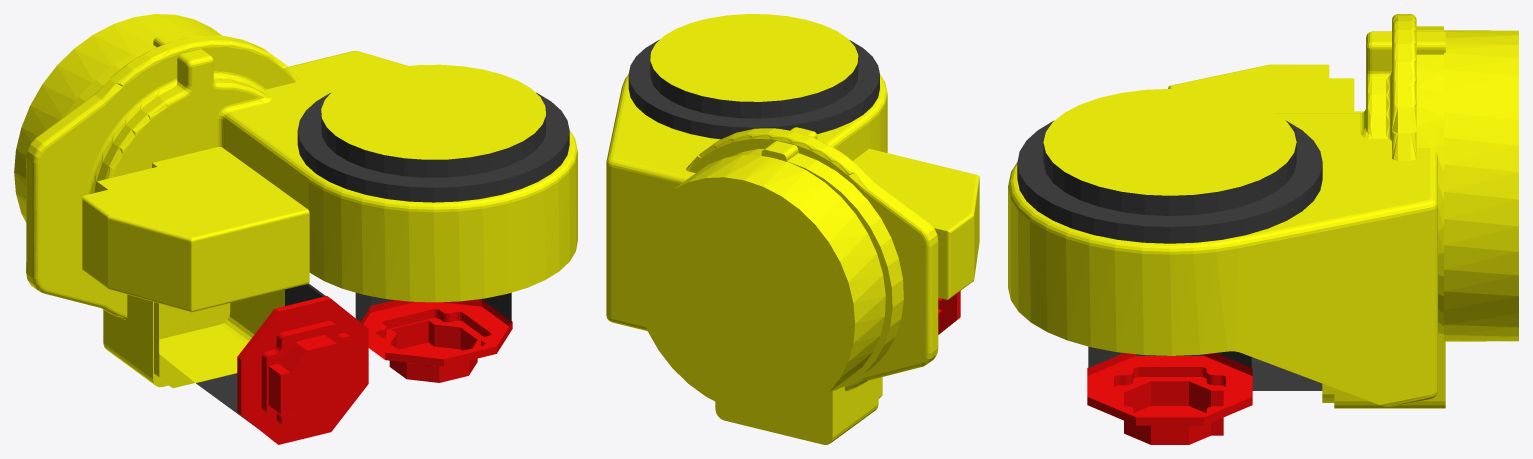
3 renders of one model, left to right at view 1: azimuth 30°, elevation 25°; view 2: azimuth 150°, elevation 25°; view 3: azimuth 270°, elevation 25°, orthographic. The views are drawn at different scales.
Visible parts, largest first — view 1: node; view 2: node; view 3: node.
Boxes of the visible parts, left/top/right/bottom form: node: left=14, top=14, right=577, bottom=444; node: left=606, top=14, right=979, bottom=444; node: left=1008, top=14, right=1518, bottom=444.
Size of the model in its own units: 442 by 308 by 410.
